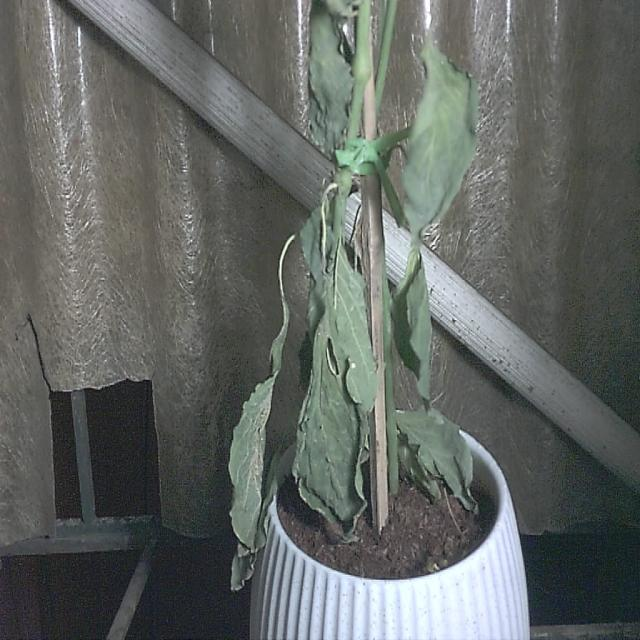Leaf: (292, 317, 369, 538), (227, 348, 281, 594)
